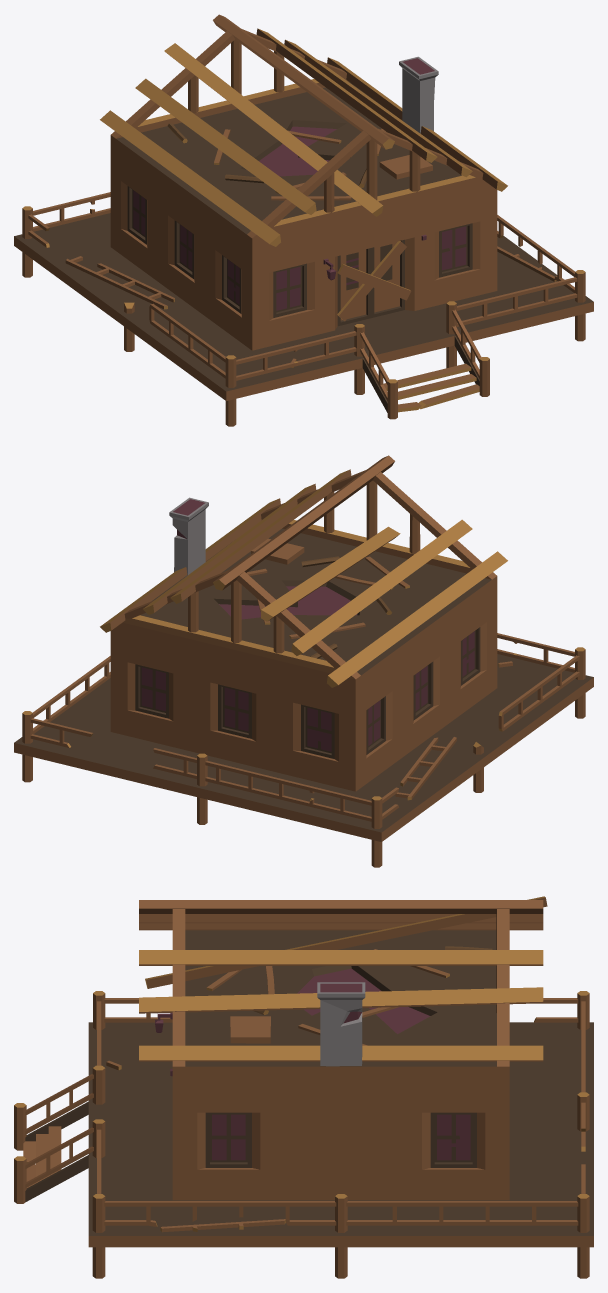
Rendered from building-cabin-big-apocalypse.fbx.
The picture shows the model from 3 angles, top to bottom: view 1: azimuth 30°, elevation 25°; view 2: azimuth 150°, elevation 25°; view 3: azimuth 270°, elevation 25°; orthographic projection. The views are drawn at different scales.
Parts seen in each view (by area): view 1: building-cabin-big-apocalypse; view 2: building-cabin-big-apocalypse; view 3: building-cabin-big-apocalypse.
Boxes of the visible parts, box(x1,y1,x2,y2) form: building-cabin-big-apocalypse: box(14, 14, 593, 426); building-cabin-big-apocalypse: box(14, 455, 593, 867); building-cabin-big-apocalypse: box(14, 896, 593, 1278).
Size of the model in its own units: 12 by 7.2 by 13.77.
